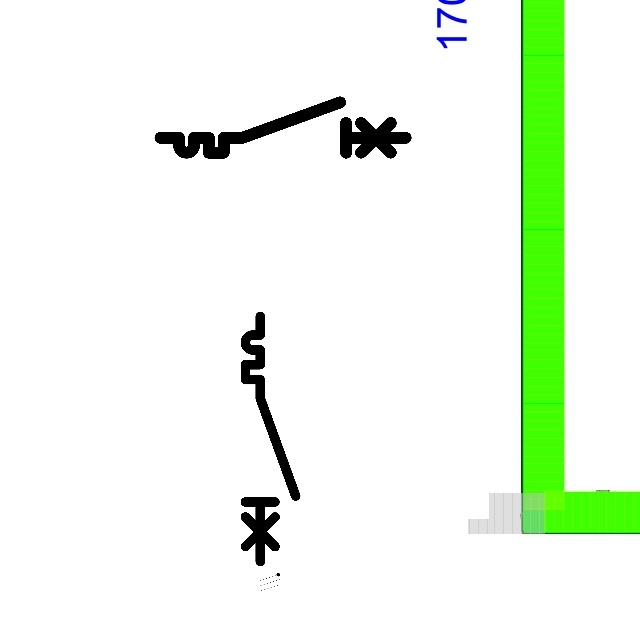interruptor_termomagnetico: (154, 96, 412, 159), (239, 310, 302, 568)
